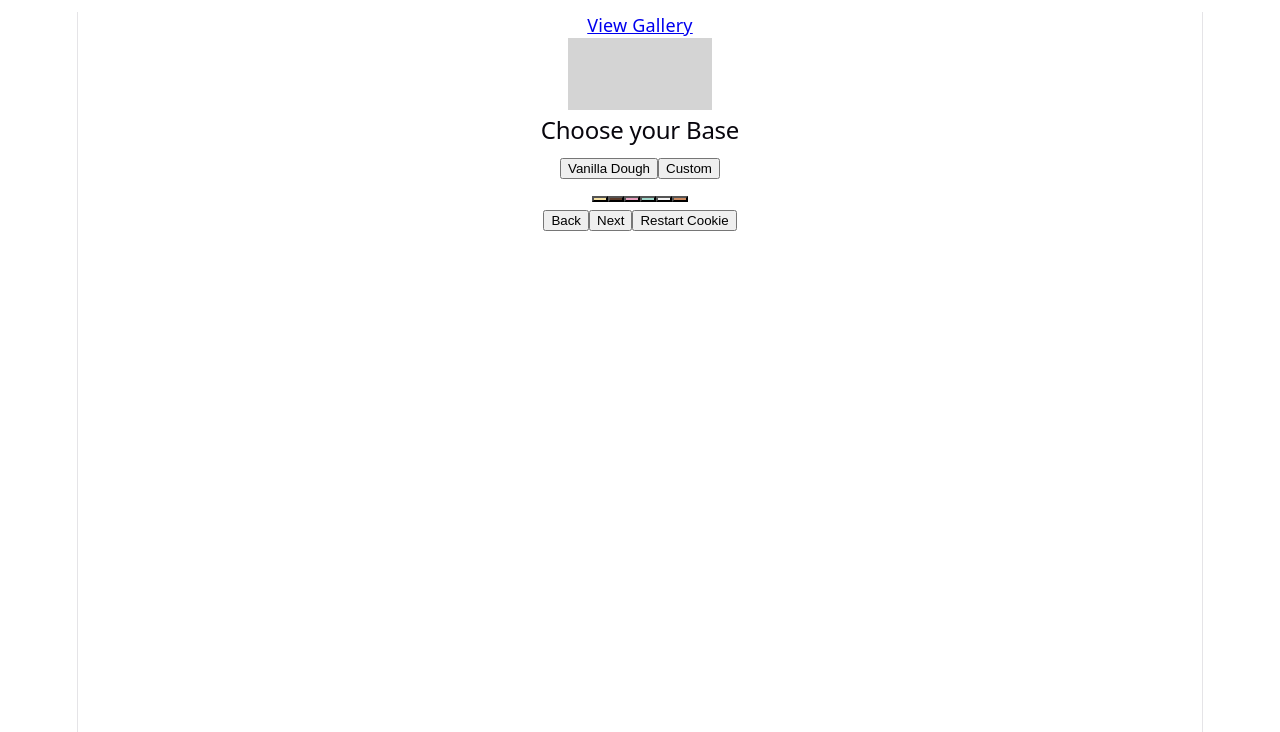
AppShell › switches to the Gallery when "View Gallery" is clicked
Click the link "View Gallery" at (640, 25), box [587,13,693,37]
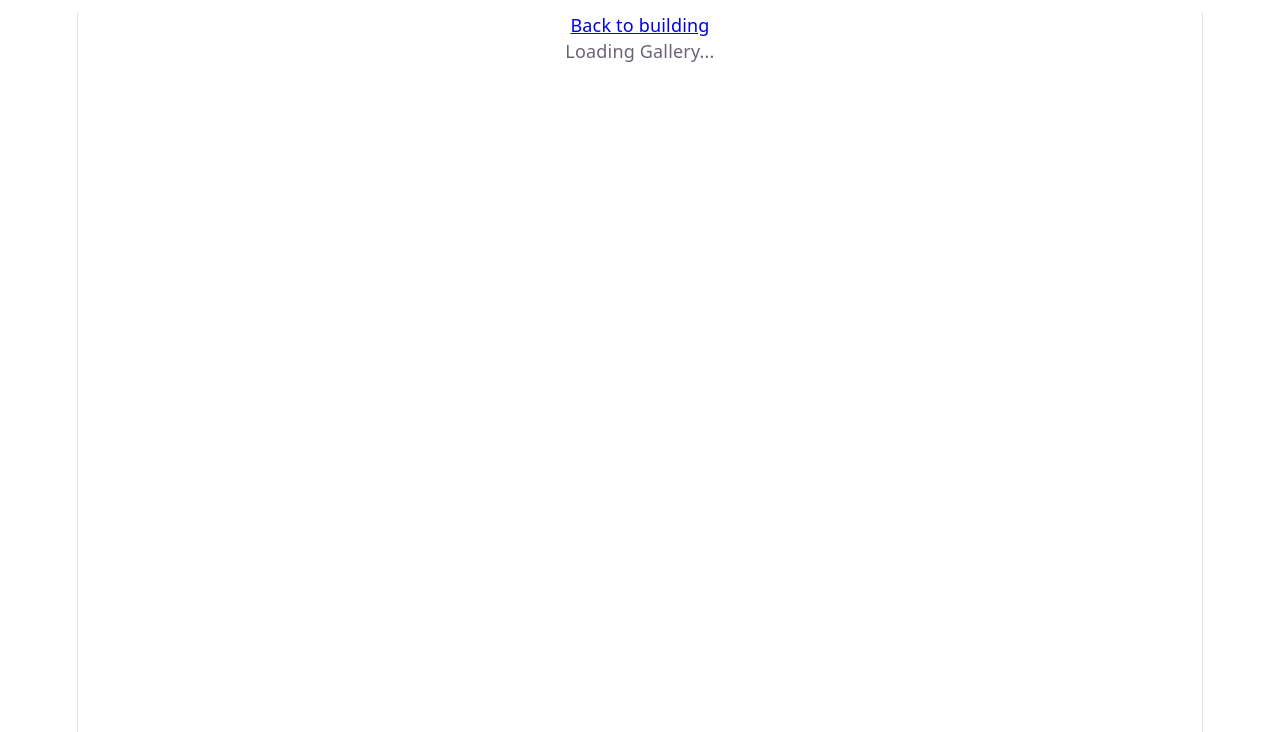
Expected: the text "Loading Gallery..." is shown, [565,39,715,63]
